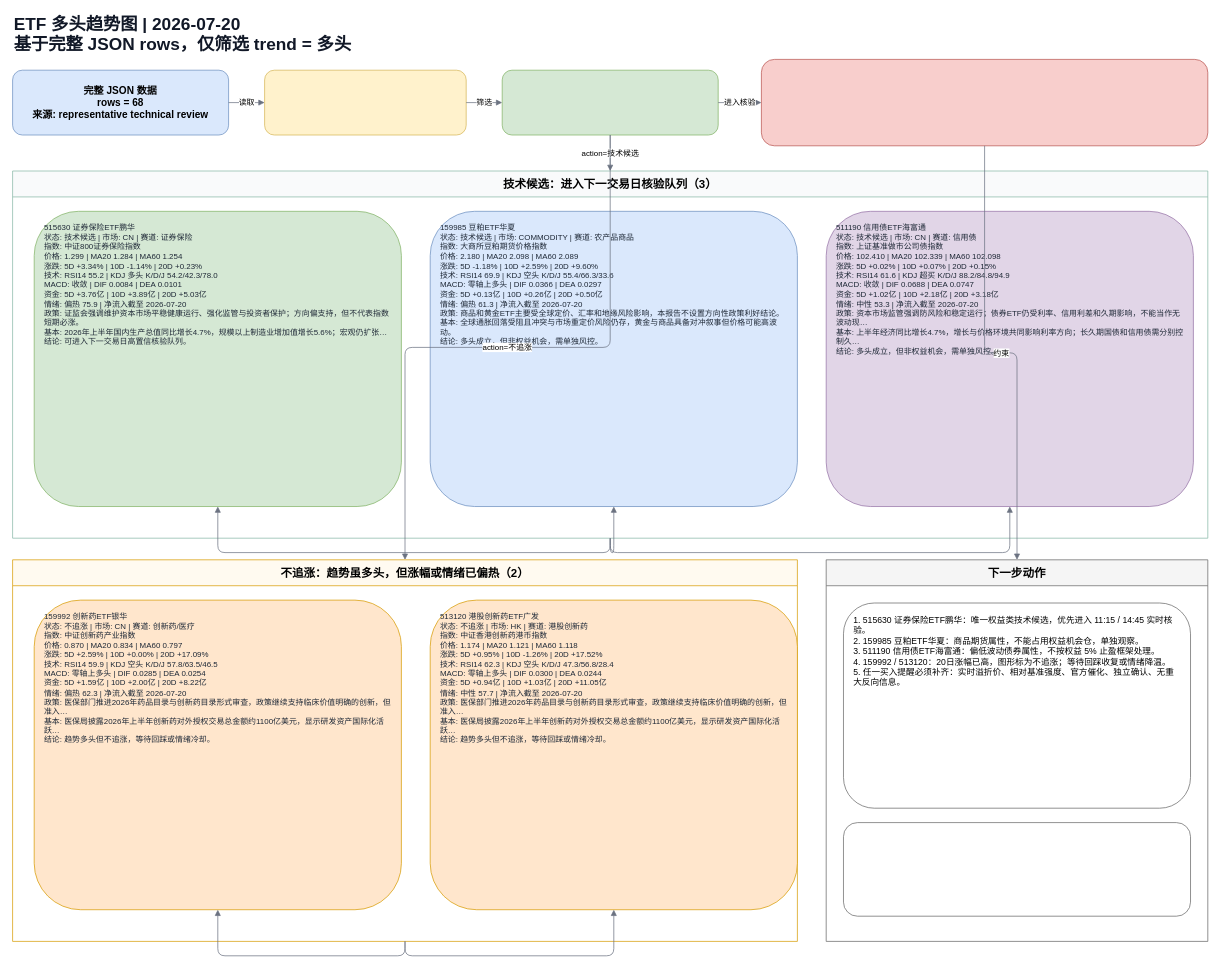
This 1220x974 diagram has some shape labels left out. The centre of each missing label's shape, as x and y in pixels:
交易闸门 本图是筛选与解释，不是买入指令。正式提醒前仍需核对实时溢折价、相对强度、一级来源催化和风险事件。: [984,102]
图例 绿色: 权益类技术候选 蓝色: 商品/另类技术候选 紫色: 债券技术候选 橙色: 多头但不追涨 红色: 交易闸门/风险约束: [1017,869]
筛选条件 trend == 多头 保留完整指标字段: [365,102]
筛选结果 5 只 ETF 技术候选 3 | 不追涨 2: [609,102]
